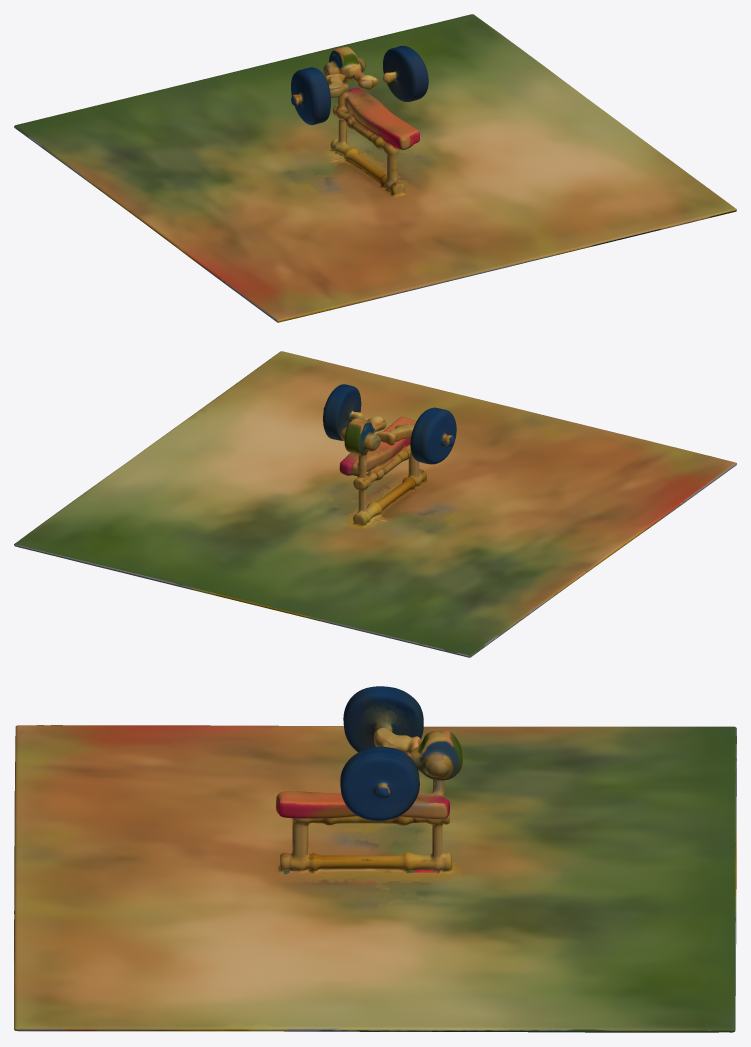
Rendered from bench-press-failed.glb.
3 views of the same model, one above another, from view 1: azimuth 30°, elevation 25°; view 2: azimuth 150°, elevation 25°; view 3: azimuth 270°, elevation 25° (orthographic). The views are drawn at different scales.
Parts seen in each view (by area): view 1: textured; view 2: textured; view 3: textured.
Boxes of the visible parts, left/top/right/bottom form: textured: left=14, top=14, right=736, bottom=322; textured: left=14, top=351, right=736, bottom=657; textured: left=14, top=686, right=736, bottom=1032.
Bounding box in the file's own units: 1.99 × 0.4616 × 1.99.
Materials: 1 (1 with a texture image).
